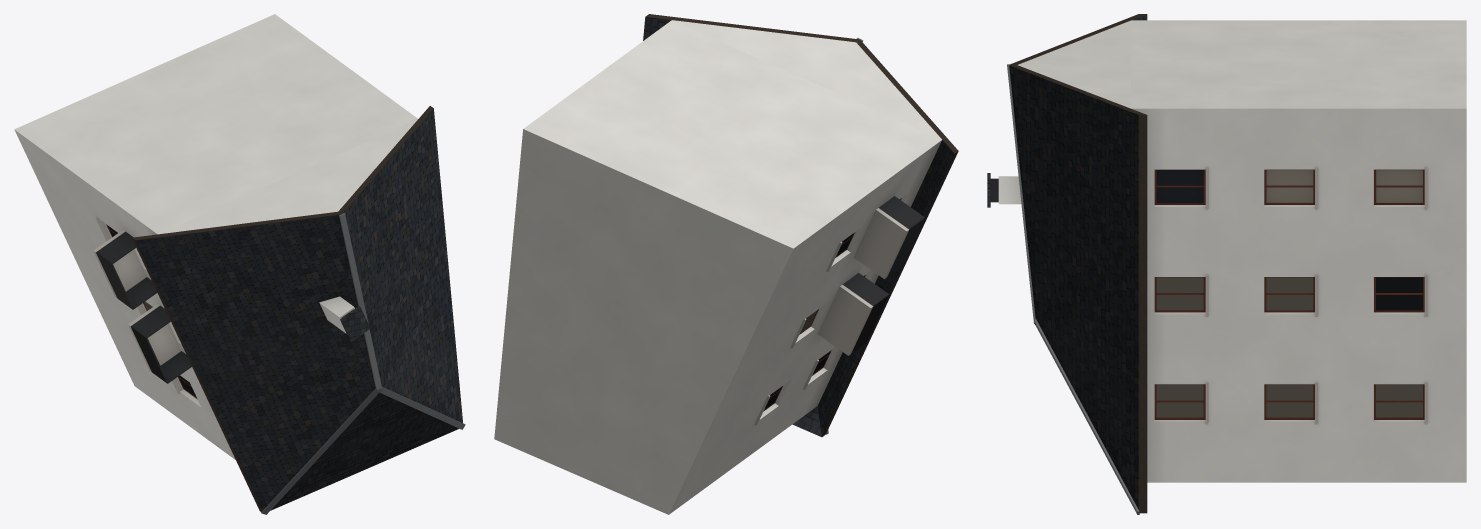
File: house_b0299.obj
The picture shows the model from 3 angles, left to right: view 1: azimuth 30°, elevation 25°; view 2: azimuth 150°, elevation 25°; view 3: azimuth 270°, elevation 25°; orthographic projection. The views are drawn at different scales.
Parts seen in each view (by area): view 1: house_b0299; view 2: house_b0299; view 3: house_b0299.
Boxes of the visible parts, box(x1,y1,x2,y2) form: house_b0299: box(14, 14, 465, 514); house_b0299: box(494, 14, 958, 514); house_b0299: box(987, 14, 1466, 514).
Bounding box in the file's own units: 12.19 × 12.91 × 13.12.
1 material, 1 textured.
